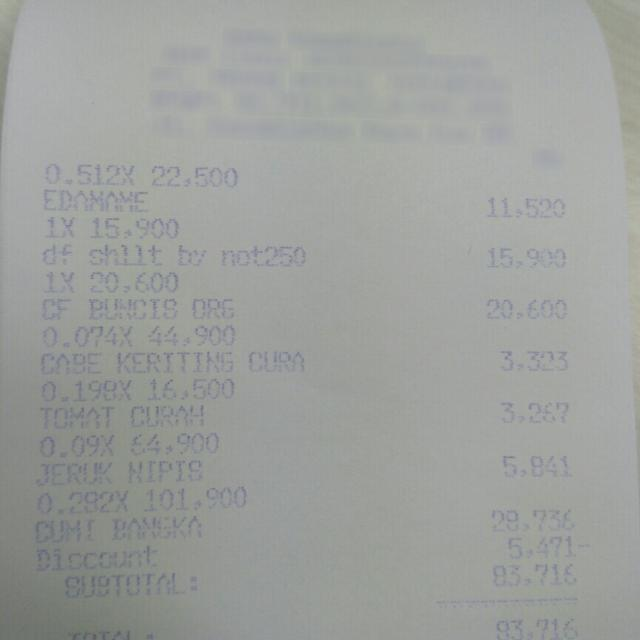text: (62, 572, 197, 598), (34, 545, 156, 570), (115, 351, 232, 374), (143, 485, 249, 510), (43, 189, 148, 212), (110, 515, 206, 540), (37, 379, 131, 402), (128, 430, 218, 454), (35, 490, 128, 513), (90, 216, 179, 240), (43, 162, 133, 185), (87, 298, 180, 320), (492, 563, 576, 587), (486, 509, 573, 532), (484, 194, 564, 219), (506, 534, 589, 558), (38, 432, 114, 458), (42, 325, 131, 347), (33, 460, 113, 484), (149, 165, 236, 187), (147, 377, 233, 399), (90, 271, 179, 292), (147, 324, 234, 345), (490, 617, 577, 638), (127, 459, 203, 483), (484, 298, 566, 320), (222, 245, 304, 266), (128, 404, 206, 426), (498, 349, 568, 373), (499, 400, 569, 424), (36, 406, 112, 428), (501, 455, 574, 477), (487, 247, 567, 267), (88, 244, 160, 266), (33, 518, 96, 543), (38, 352, 102, 374), (249, 350, 305, 372), (190, 298, 236, 319), (41, 270, 75, 292), (43, 215, 74, 238), (39, 298, 71, 320), (65, 630, 127, 640), (42, 243, 69, 264), (178, 245, 204, 266)
